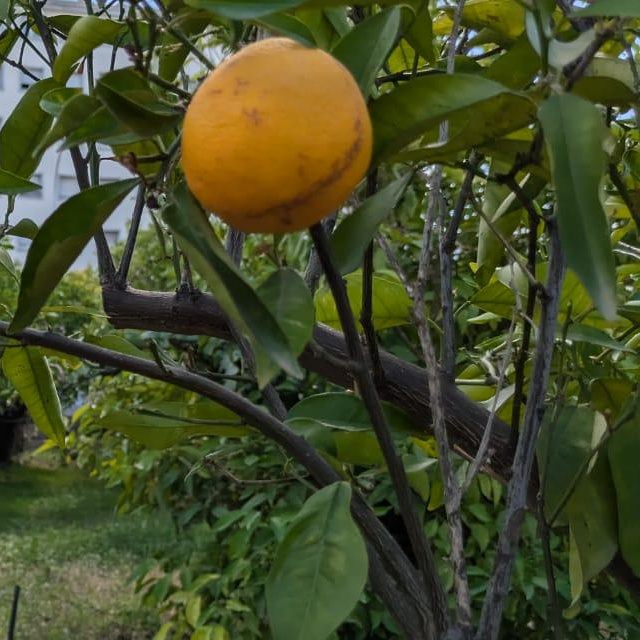orange: (168, 29, 384, 249)
